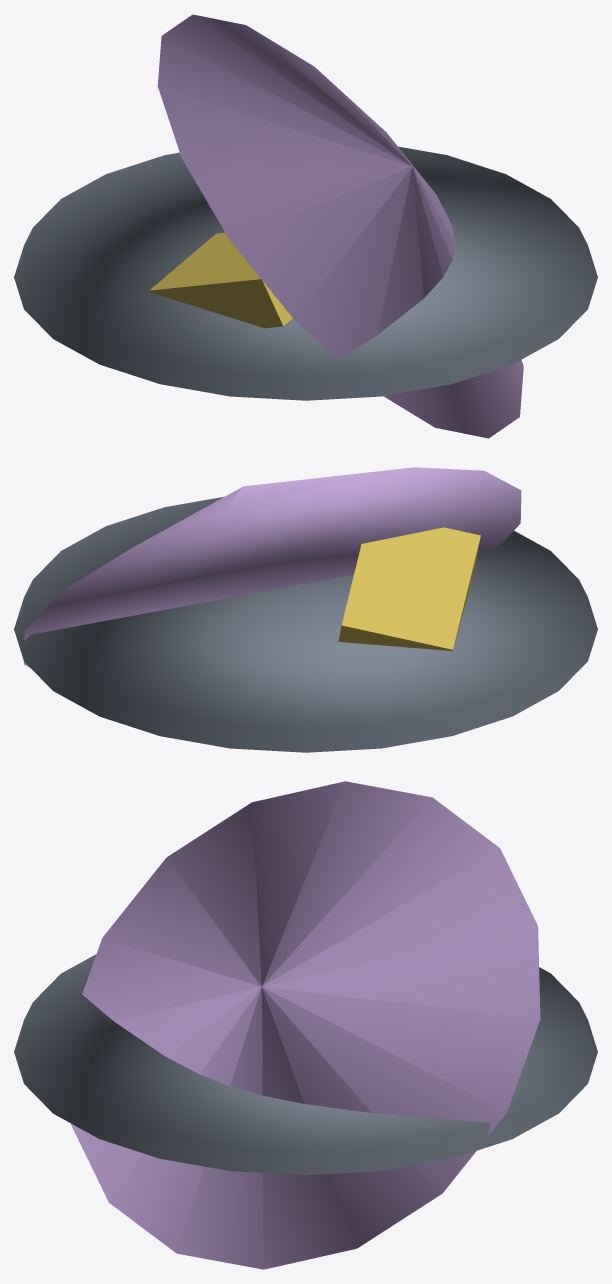
The model's file is carousel-wreck.glb.
The picture shows the model from 3 angles, top to bottom: view 1: azimuth 30°, elevation 25°; view 2: azimuth 150°, elevation 25°; view 3: azimuth 270°, elevation 25°; orthographic projection.
Visible parts, largest first — view 1: Root; view 2: Root; view 3: Root.
Part boxes in pixels (left/top/right/bottom): Root: left=14, top=14, right=597, bottom=438; Root: left=14, top=467, right=597, bottom=752; Root: left=14, top=781, right=597, bottom=1269.
Bounding box in the file's own units: 12.8 × 8.31 × 12.8.
